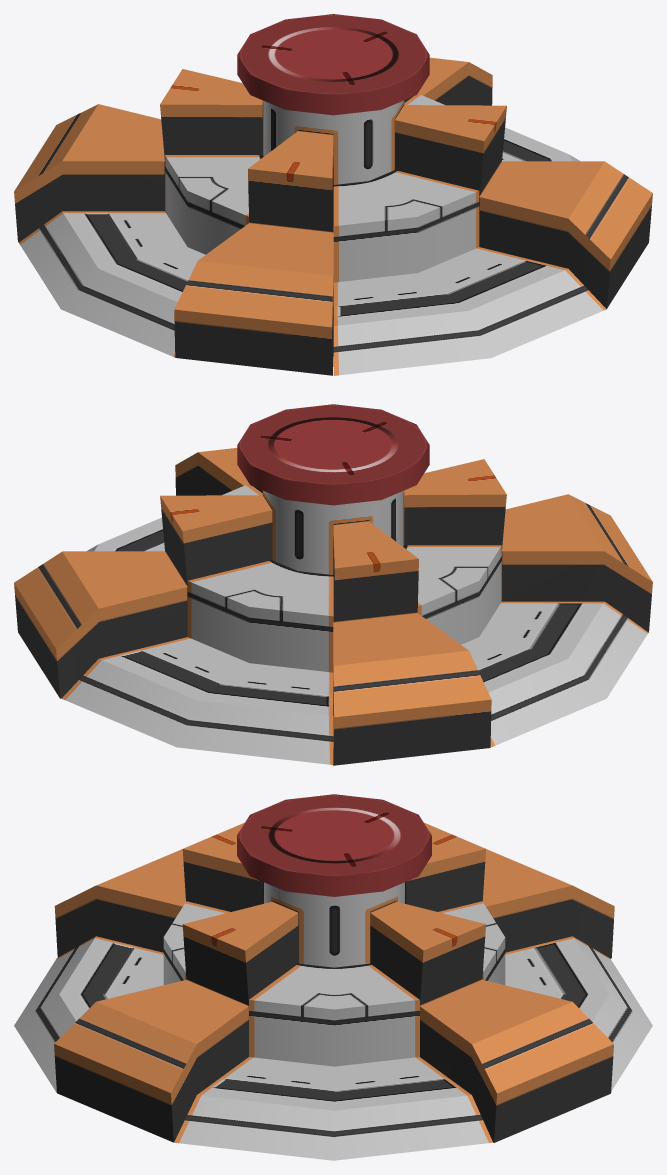
File: trap00.fbx
The picture shows the model from 3 angles, top to bottom: view 1: azimuth 30°, elevation 25°; view 2: azimuth 150°, elevation 25°; view 3: azimuth 270°, elevation 25°; orthographic projection.
Visible parts, largest first — view 1: trap00; view 2: trap00; view 3: trap00.
Boxes of the visible parts, x1,y1,x2,y2 form: trap00: [14, 14, 652, 375]; trap00: [14, 404, 652, 765]; trap00: [14, 794, 652, 1160].
Bounding box in the file's own units: 7.33 × 2.41 × 7.33.
